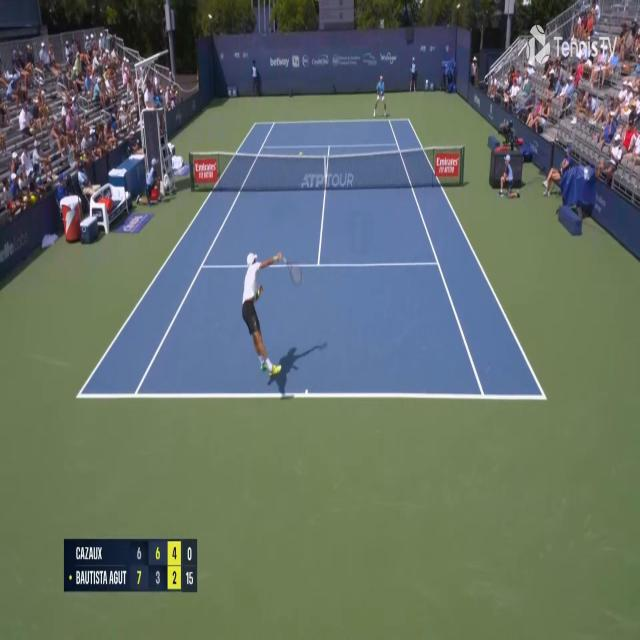tennis-player: (239, 246, 301, 379), (372, 73, 388, 118)
